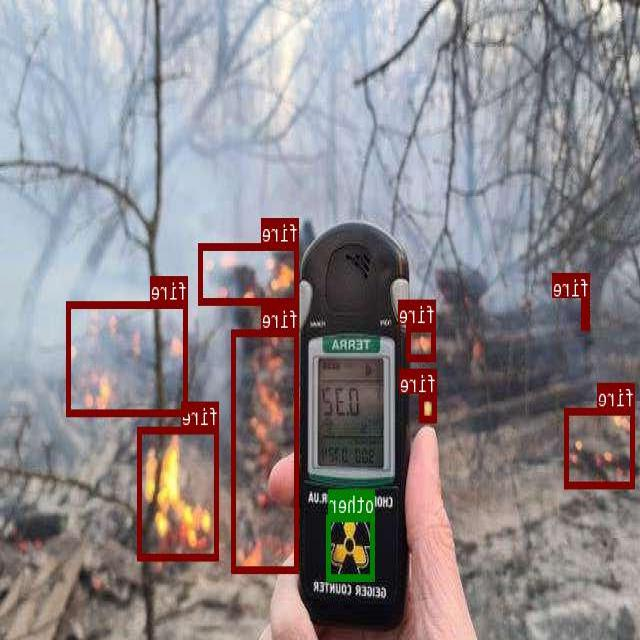fire: (232, 328, 300, 571), (67, 301, 189, 415), (139, 426, 220, 559), (199, 242, 300, 304), (566, 407, 635, 487), (408, 324, 437, 359), (421, 393, 438, 422), (582, 298, 590, 328)
other: (328, 514, 376, 580)
